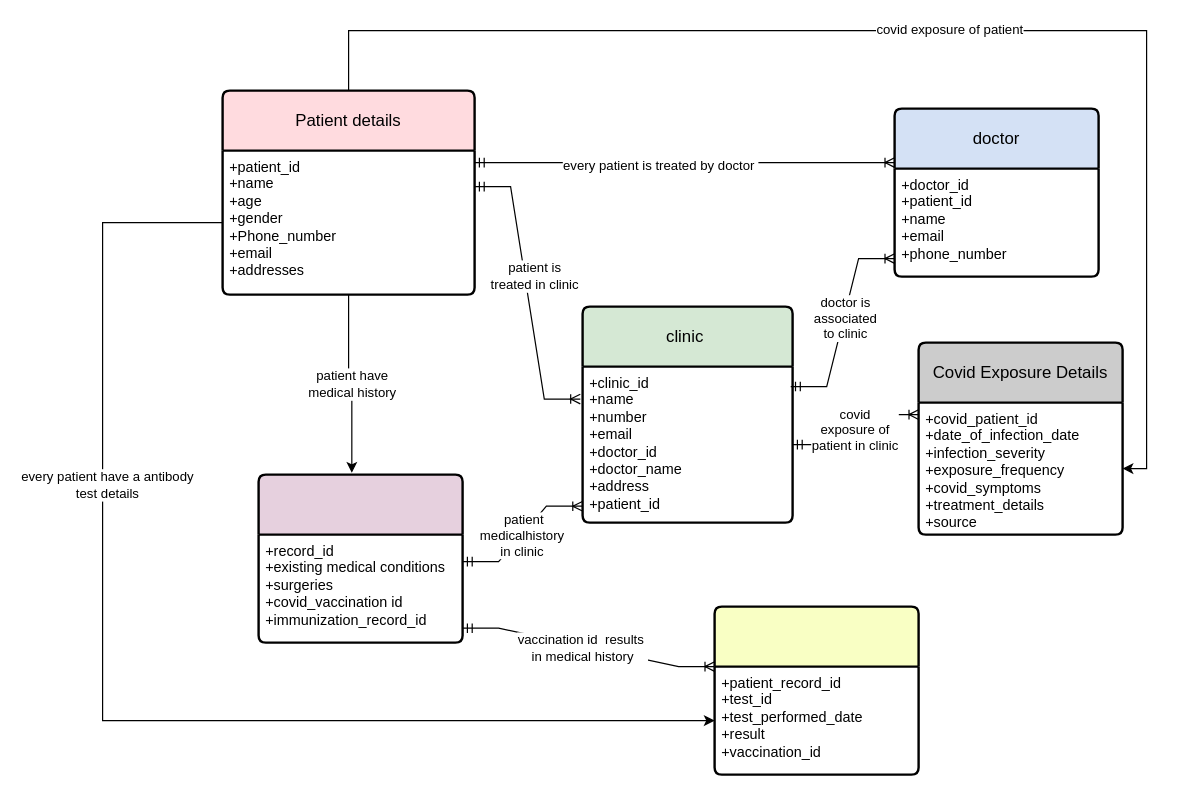
Some shapes in this 1177 by 796 pixel diagram are drawn without their labels. Here are the shapes that lost their labels. From the top down, the box of each, then its label:
(257, 473, 463, 643): patient medical history
(713, 605, 919, 775): Antibody Testing
